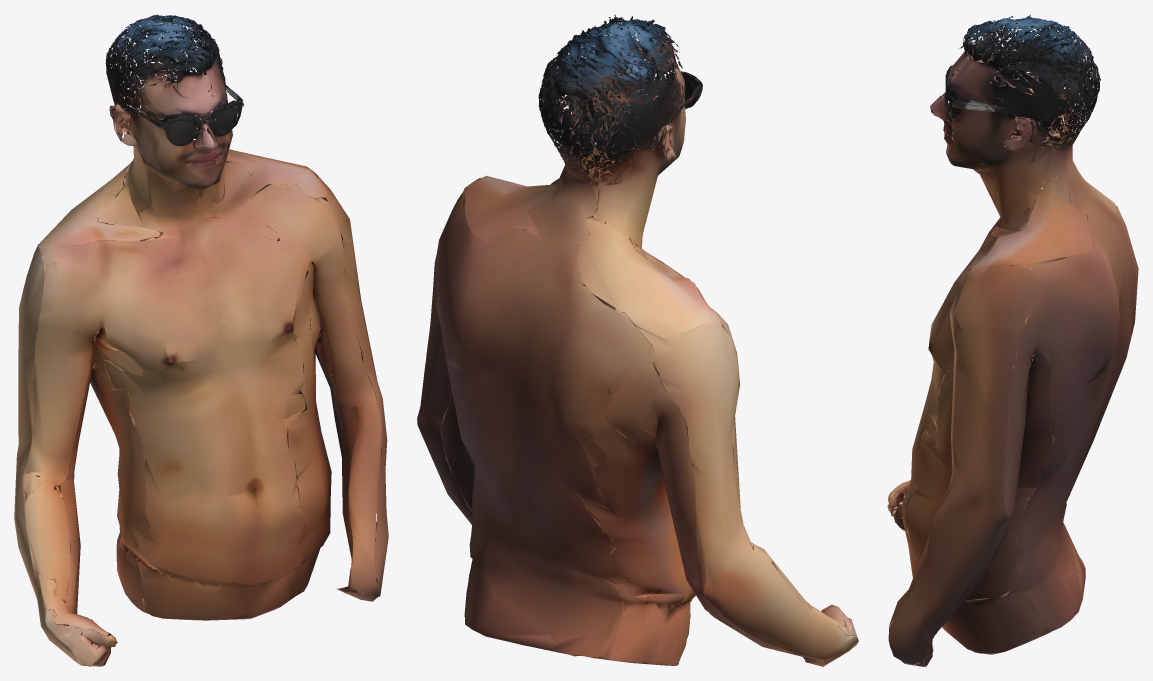
The model's file is beach_swim.glb.
3 renders of one model, left to right at view 1: azimuth 30°, elevation 25°; view 2: azimuth 150°, elevation 25°; view 3: azimuth 270°, elevation 25°, orthographic. The views are drawn at different scales.
Parts seen in each view (by area): view 1: beach_swim; view 2: beach_swim; view 3: beach_swim.
Boxes of the visible parts, left/top/right/bottom form: beach_swim: left=14, top=14, right=388, bottom=666; beach_swim: left=417, top=14, right=858, bottom=666; beach_swim: left=887, top=14, right=1138, bottom=666.
Size of the model in its own units: 0.5488 by 0.8493 by 0.3339.
Materials: 1 (1 with a texture image).
